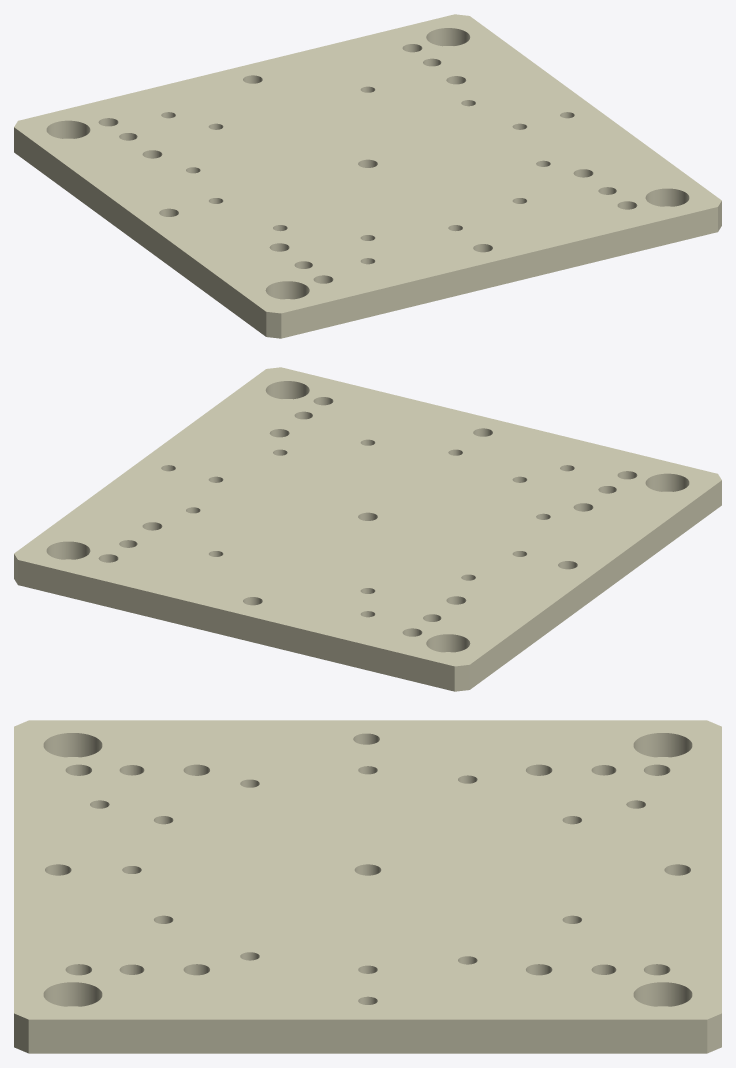
File: MountingPlate.fbx
3 renders of one model, top to bottom at view 1: azimuth 30°, elevation 25°; view 2: azimuth 150°, elevation 25°; view 3: azimuth 270°, elevation 25°, orthographic. The views are drawn at different scales.
Parts seen in each view (by area): view 1: D112207B; view 2: D112207B; view 3: D112207B.
Boxes of the visible parts, x1=… form: D112207B: x1=14, y1=14, x2=721, y2=338; D112207B: x1=14, y1=367, x2=721, y2=691; D112207B: x1=14, y1=720, x2=721, y2=1053.
Size of the model in its own units: 24 by 1.27 by 24.
